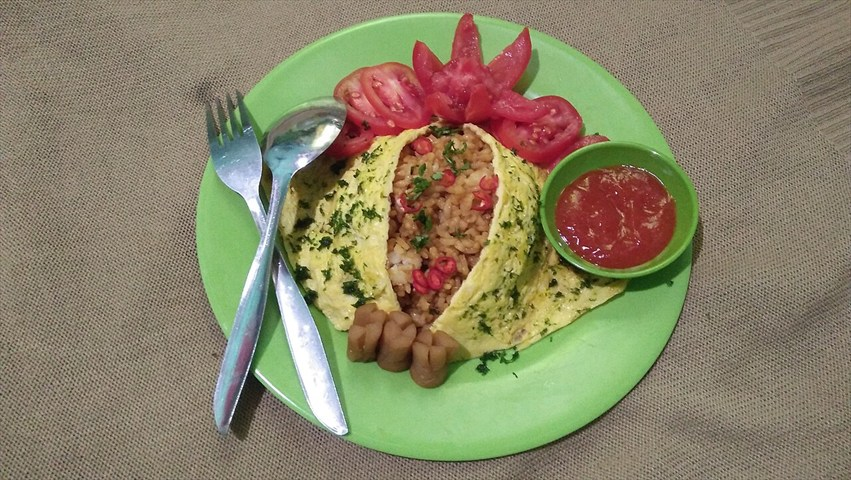Nasi Goreng: (220, 71, 673, 405)
